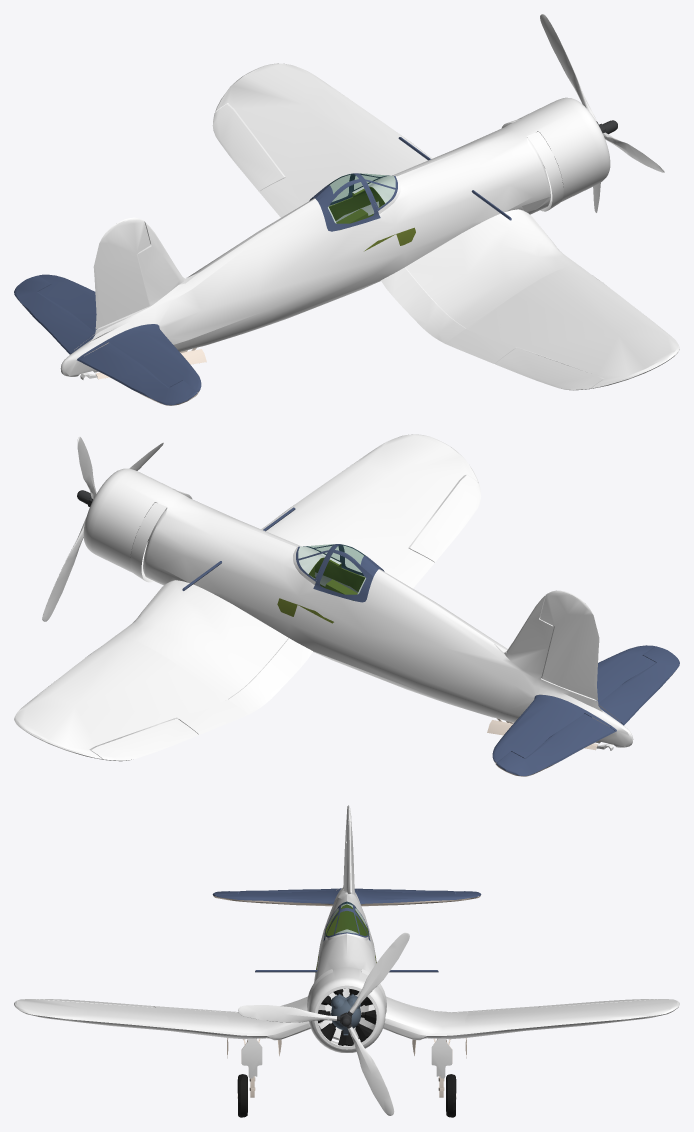
3 views of the same model, one above another, from view 1: azimuth 30°, elevation 25°; view 2: azimuth 150°, elevation 25°; view 3: azimuth 270°, elevation 25° (orthographic). The views are drawn at different scales.
Parts seen in each view (by area): view 1: f4u1fuse_001; view 2: f4u1fuse_001; view 3: f4u1fuse_001.
Part boxes in pixels (left/top/right/bottom): f4u1fuse_001: left=14, top=14, right=679, bottom=405; f4u1fuse_001: left=14, top=434, right=679, bottom=776; f4u1fuse_001: left=14, top=805, right=679, bottom=1117.
Size of the model in its own units: 23844 by 10348 by 29680.
